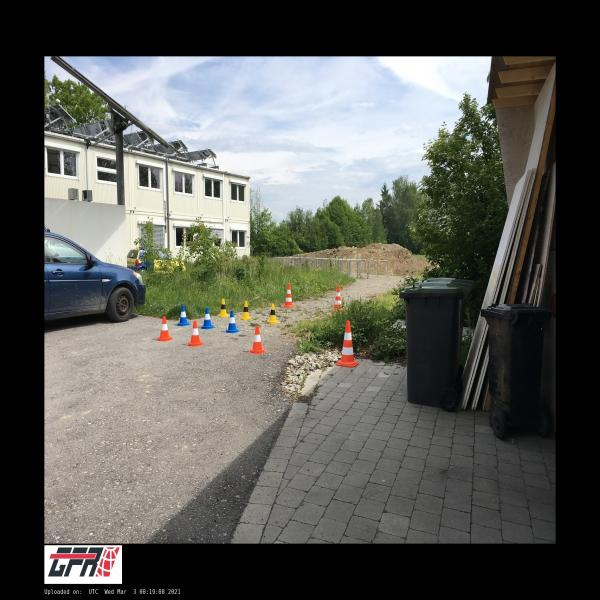blue_cone: (225, 310, 240, 333), (200, 308, 215, 330), (177, 305, 191, 326)
large_orange_cone: (336, 321, 358, 367), (282, 284, 294, 308), (333, 286, 342, 310)
orange_cone: (185, 320, 205, 346), (248, 326, 266, 354), (156, 316, 174, 342)
yellow_cone: (267, 303, 280, 324), (218, 298, 230, 318), (240, 301, 252, 320)
